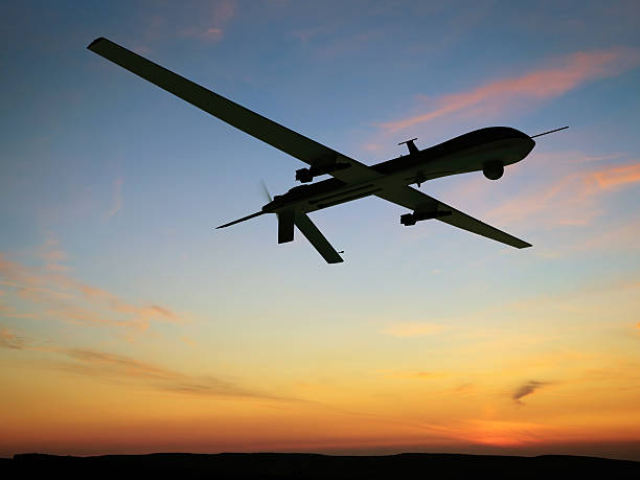military drone: (86, 36, 569, 263)
